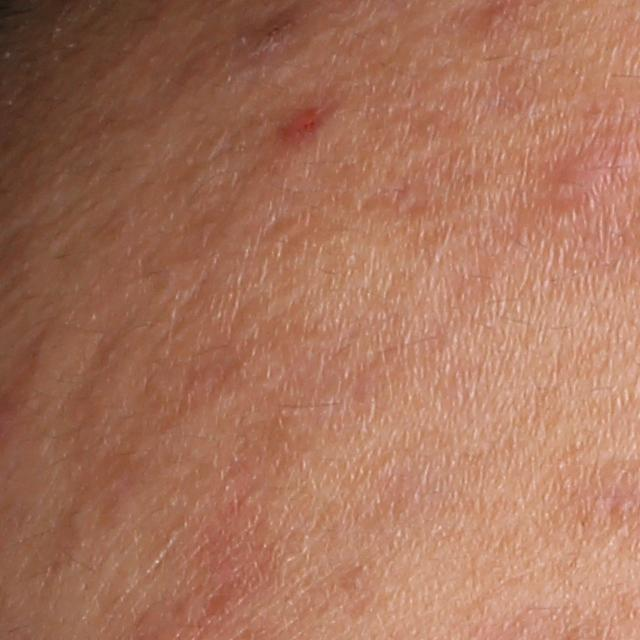papule: (542, 145, 628, 225), (276, 103, 325, 144)
